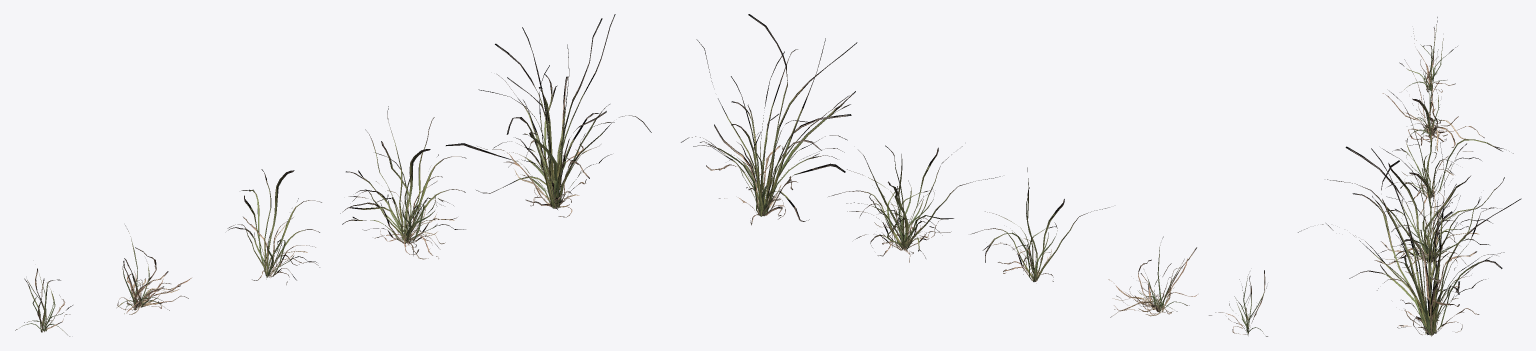
Rendered from grass_medium_02.glb.
3 renders of one model, left to right at view 1: azimuth 30°, elevation 25°; view 2: azimuth 150°, elevation 25°; view 3: azimuth 270°, elevation 25°, orthographic. The views are drawn at different scales.
Visible parts, largest first — view 1: grass_medium_02_a; view 2: grass_medium_02_a; view 3: grass_medium_02_a.
Part boxes in pixels (bbox=[...]): grass_medium_02_a: bbox=[15, 14, 651, 336]; grass_medium_02_a: bbox=[681, 14, 1267, 336]; grass_medium_02_a: bbox=[1298, 17, 1521, 336].
Size of the model in its own units: 1.31 by 0.4053 by 0.4333.
Materials: 1 (1 with a texture image).
